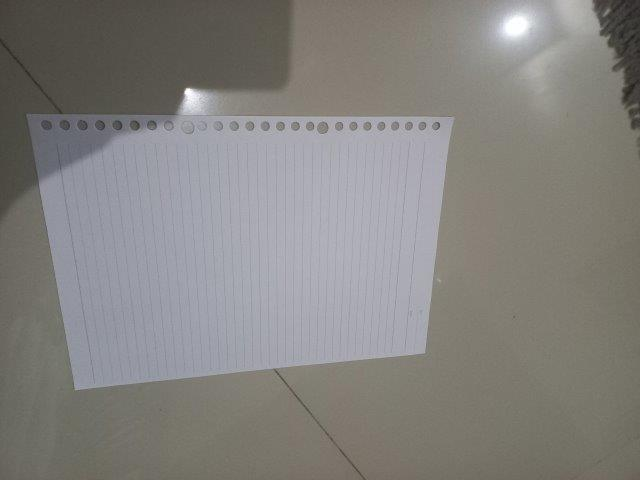kertas: (25, 115, 454, 391)
